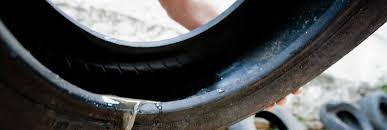tire: (1, 1, 387, 130), (225, 104, 304, 130), (321, 100, 373, 130), (360, 92, 384, 130)
